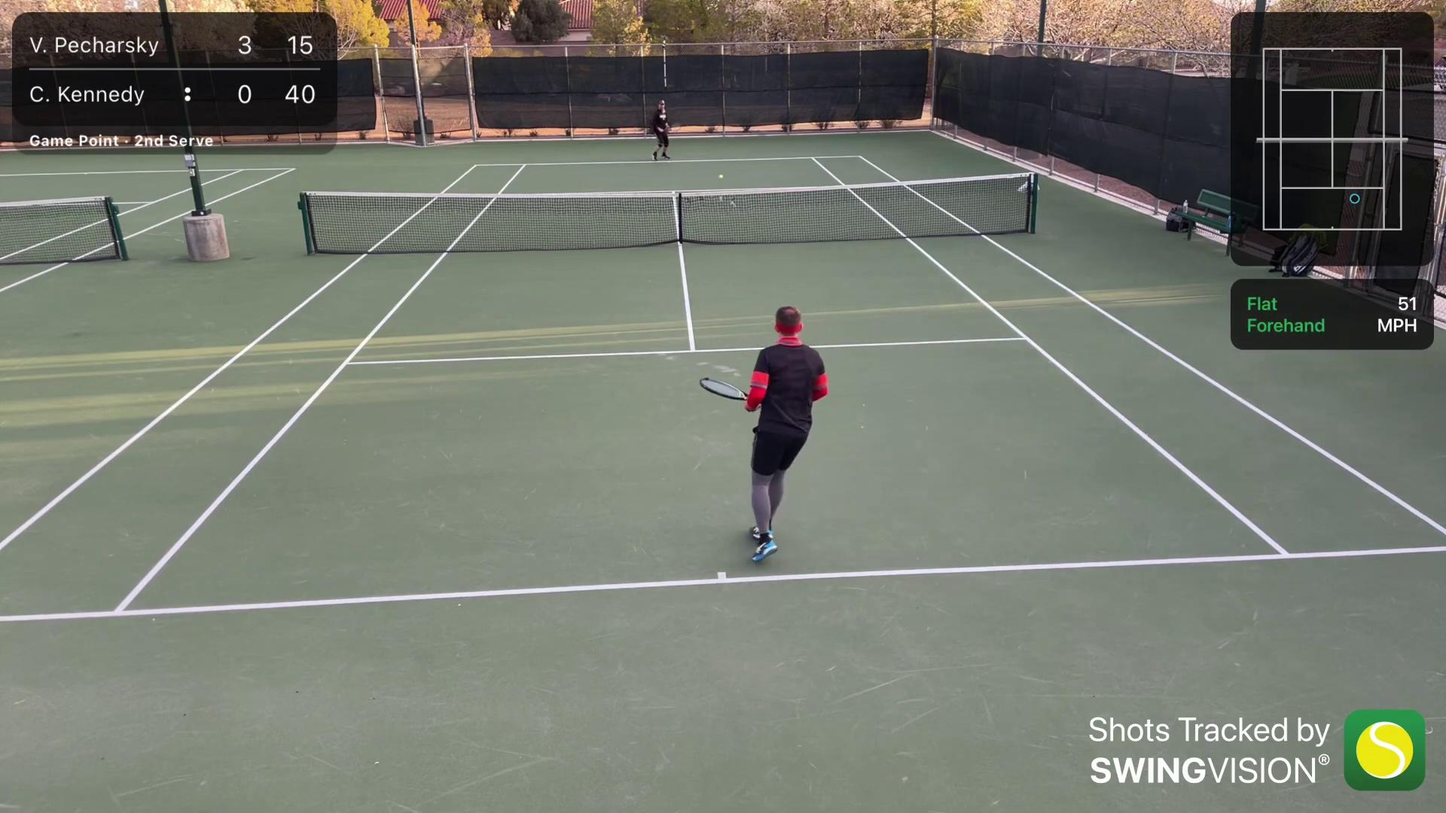ball: (718, 174, 725, 180)
